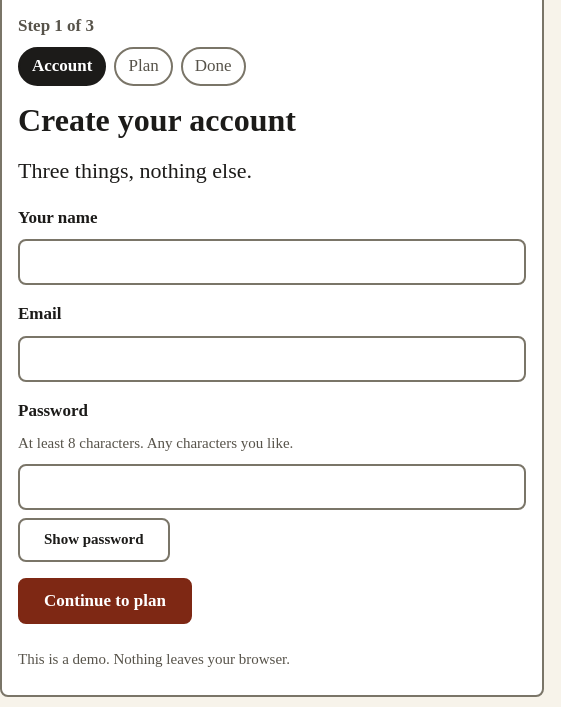
Test: whole flow › valid details lead to the plan step with Pro preselected, then to done
Type "Ana Pérez" into the field labelled "Your name" at x=272, y=262, box [18,239,526,285]
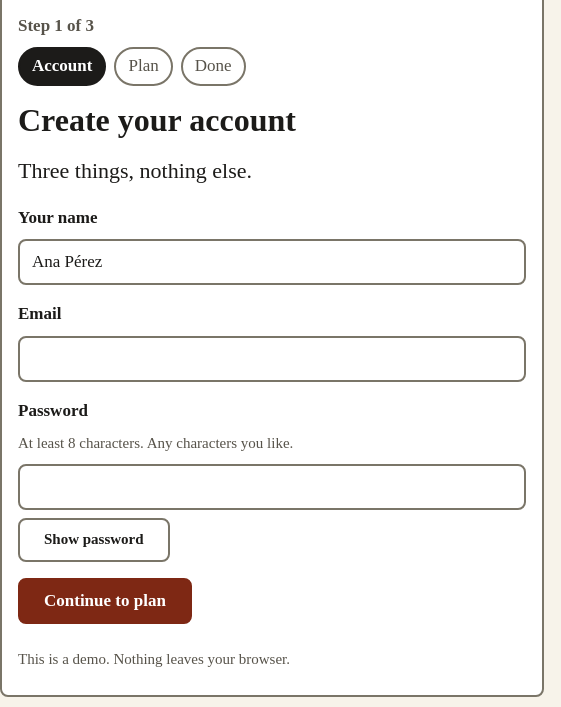
Type "ana@example.com" into the field labelled "Email" at x=272, y=359, box [18,336,526,382]
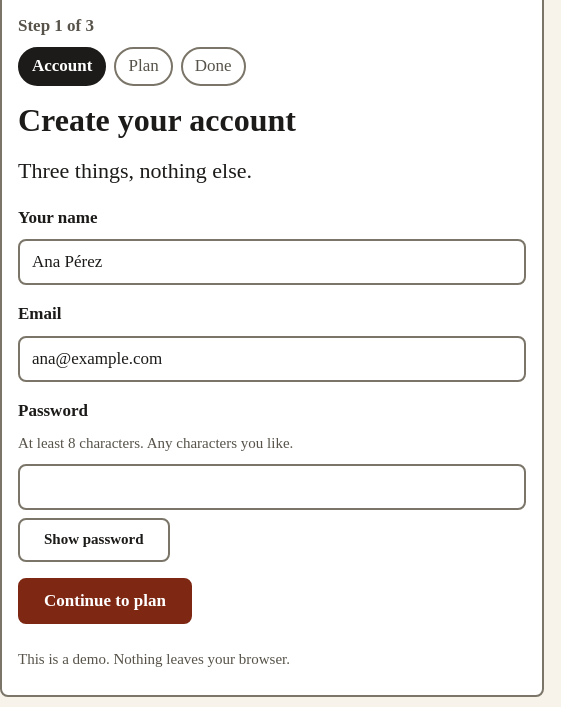
Type "correct horse" into the password field labelled "Password" at x=272, y=487, box [18,464,526,510]
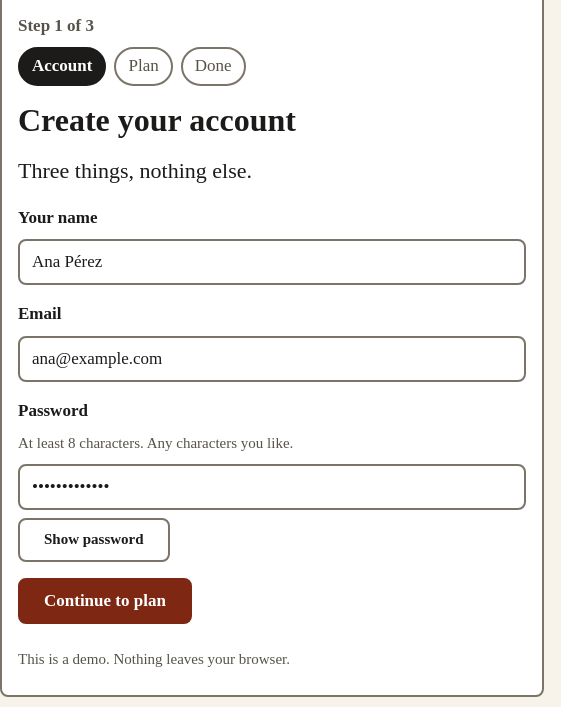
Click the button "Continue to plan" at x=105, y=601, box [18,578,192,624]
(page scrolled)
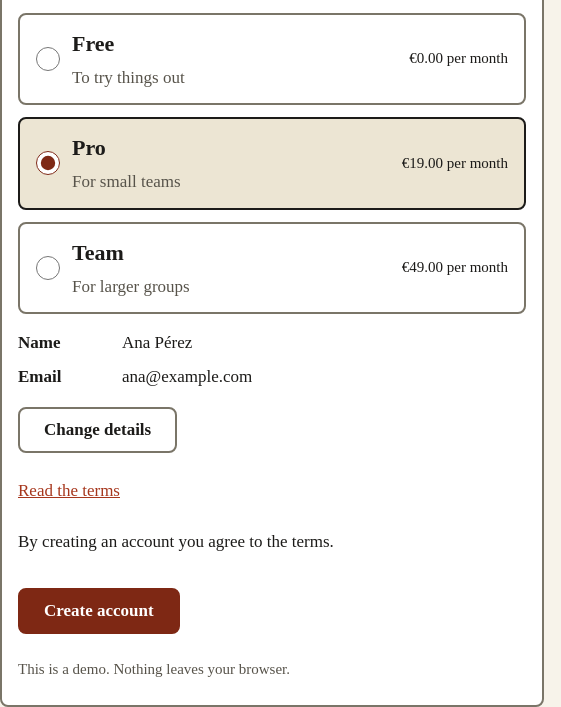
Check: the radio button labelled "Pro For small teams €19.00 per month" is checked, box [36,152,60,176]
Check: the text "Ana Pérez" is shown, box [122,330,192,356]
Check: the text "ana@example.com" is shown, box [122,364,252,391]
Click the button "Create account" at x=99, y=611, box [18,588,180,634]
(page scrolled)
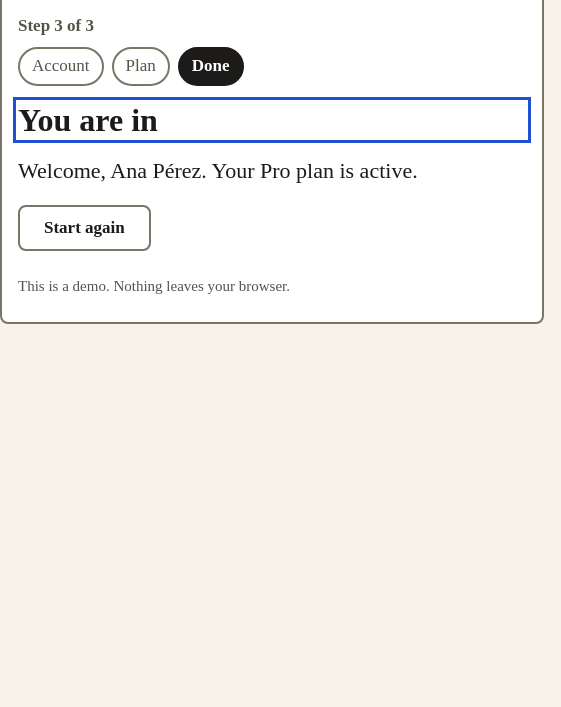
Check: the number of headings is 1, box [18,102,158,138]
Check: the message reads "Welcome, Ana Pérez. Your Pro plan is active.", box [18,158,418,184]
Check: the text "Step 3 of 3" is shown, box [18,16,94,35]
